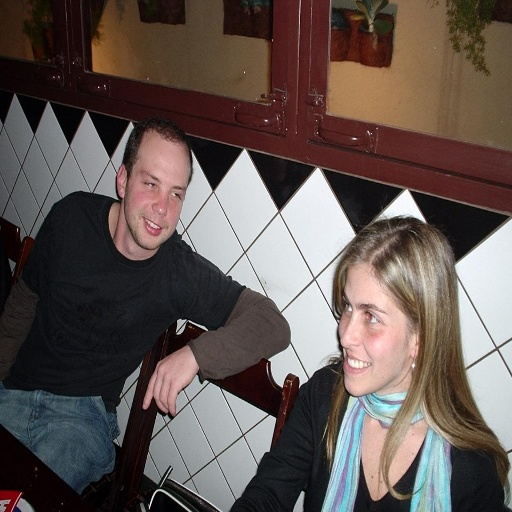hand: (140, 325, 208, 418)
